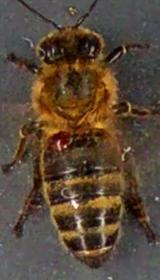varroa_mite: (44, 124, 76, 156)
